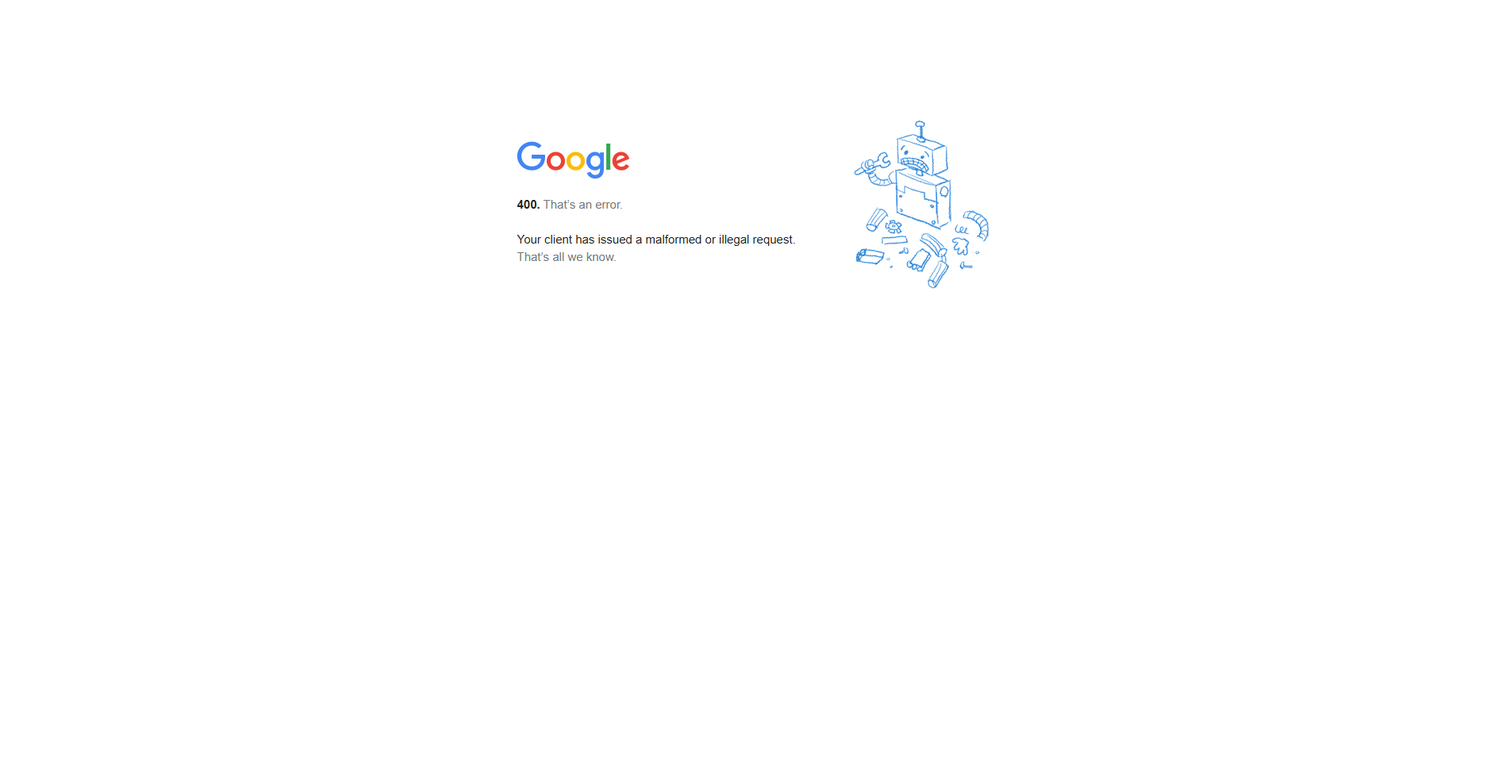button: (517, 171, 632, 185)
